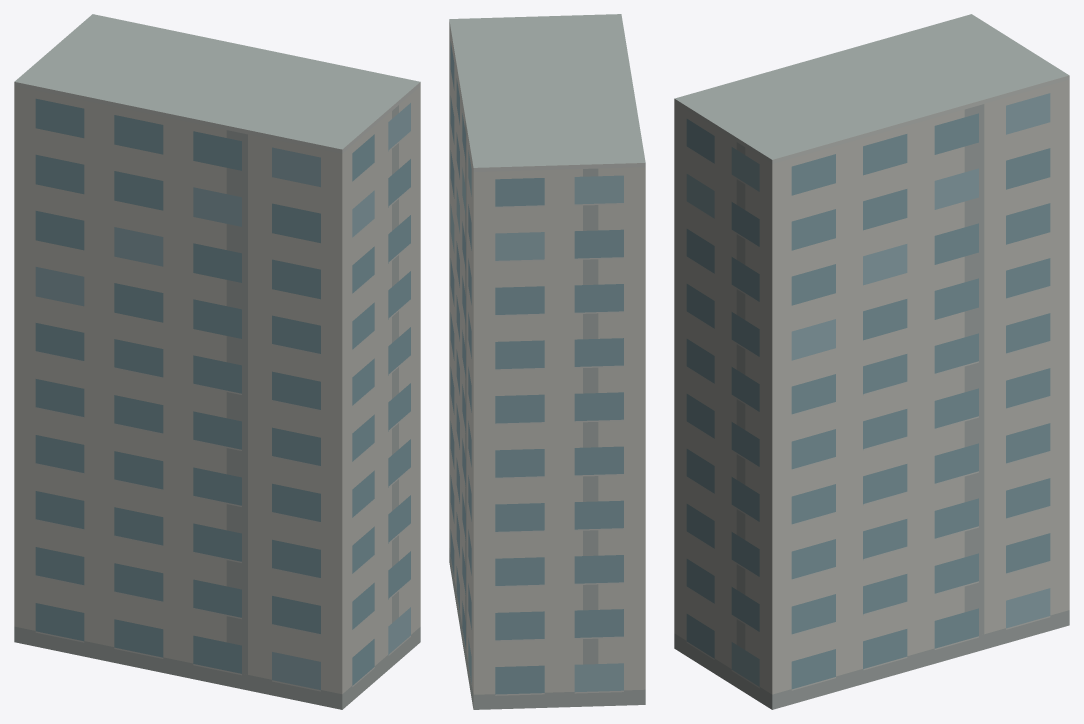
File: residential-d5342a45-743b-4cc4-8fa9-49d899f6c994.glb
3 views of the same model, side by side, from view 1: azimuth 30°, elevation 25°; view 2: azimuth 150°, elevation 25°; view 3: azimuth 270°, elevation 25° (orthographic). The views are drawn at different scales.
Visible parts, largest first — view 1: residential-d5342a45-743b-4cc4-8fa9-49d899f6c994.tmp; view 2: residential-d5342a45-743b-4cc4-8fa9-49d899f6c994.tmp; view 3: residential-d5342a45-743b-4cc4-8fa9-49d899f6c994.tmp.
Boxes of the visible parts, left/top/right/bottom form: residential-d5342a45-743b-4cc4-8fa9-49d899f6c994.tmp: left=14, top=14, right=420, bottom=709; residential-d5342a45-743b-4cc4-8fa9-49d899f6c994.tmp: left=449, top=14, right=645, bottom=709; residential-d5342a45-743b-4cc4-8fa9-49d899f6c994.tmp: left=674, top=14, right=1069, bottom=709.
Size of the model in its own units: 17.65 by 31 by 20.19.
